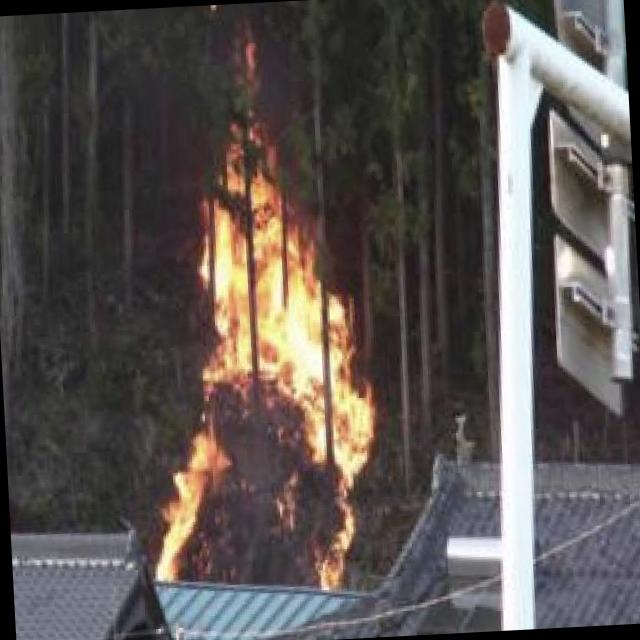Fire: (134, 122, 382, 572)
